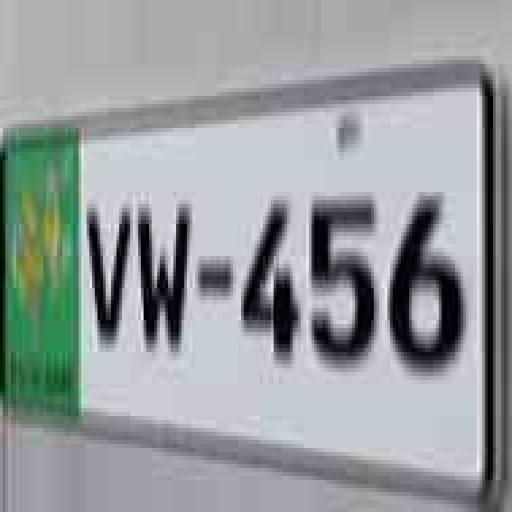4: (238, 198, 297, 377)
5: (309, 188, 379, 378)
6: (382, 195, 468, 384)
V: (84, 202, 131, 341)
W: (131, 191, 192, 353)
